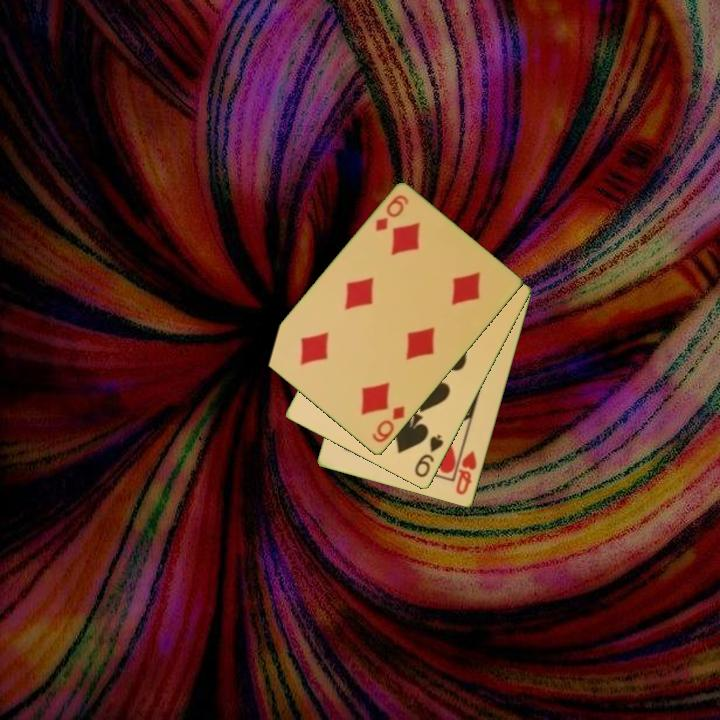6d: (368, 403, 408, 446), (372, 191, 411, 235)
9s: (411, 431, 446, 481)
Qh: (452, 448, 480, 498)
